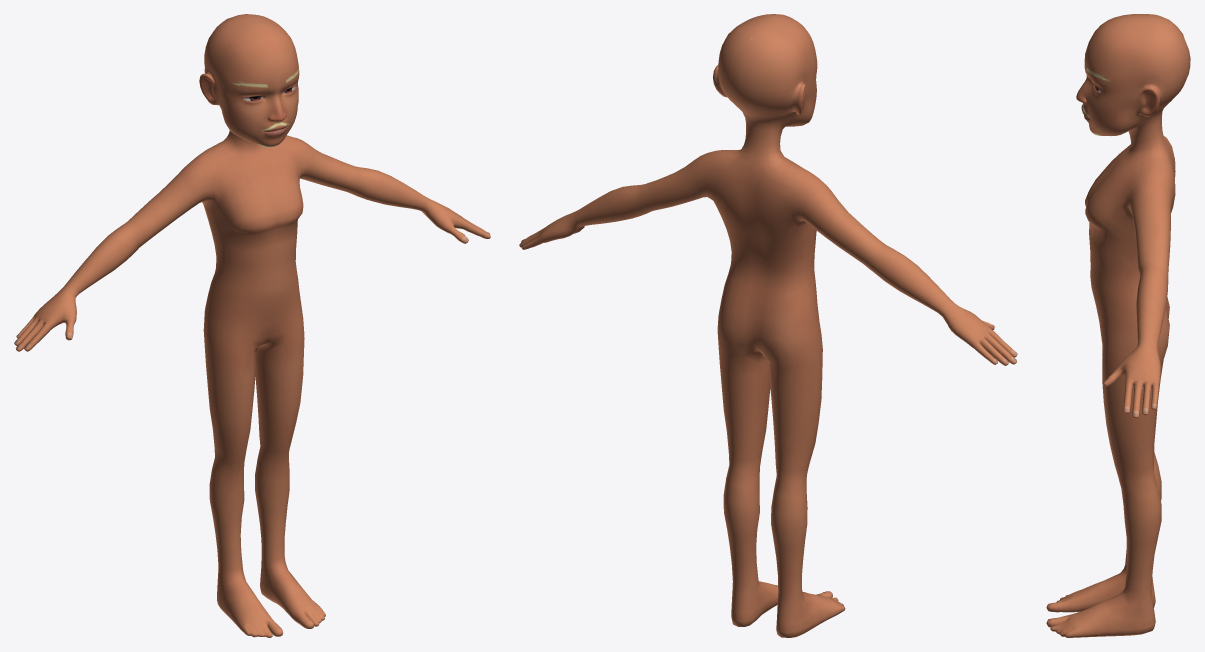
Rendered from frame_0005.glb.
3 views of the same model, side by side, from view 1: azimuth 30°, elevation 25°; view 2: azimuth 150°, elevation 25°; view 3: azimuth 270°, elevation 25° (orthographic). The views are drawn at different scales.
Visible parts, largest first — view 1: frame_0005_head_geo; view 2: frame_0005_head_geo; view 3: frame_0005_head_geo.
Part boxes in pixels (x1,y1,x2,y2): frame_0005_head_geo: (14, 14, 490, 637); frame_0005_head_geo: (519, 14, 1017, 637); frame_0005_head_geo: (1046, 14, 1190, 637).
Bounding box in the file's own units: 1.28 × 1.5 × 0.3253.
3 materials, 3 textured.
